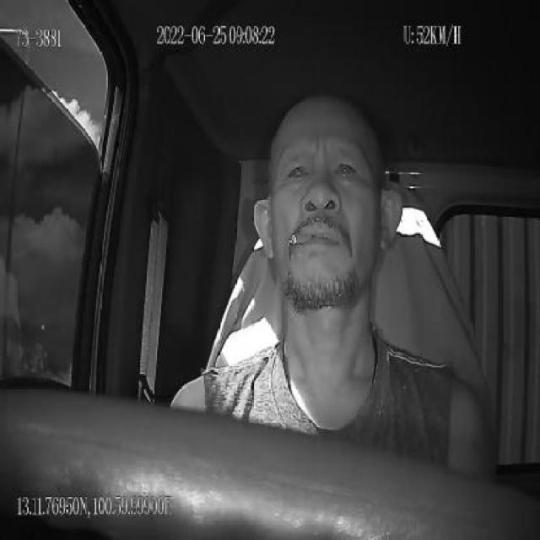smoking: (290, 232, 312, 245)
